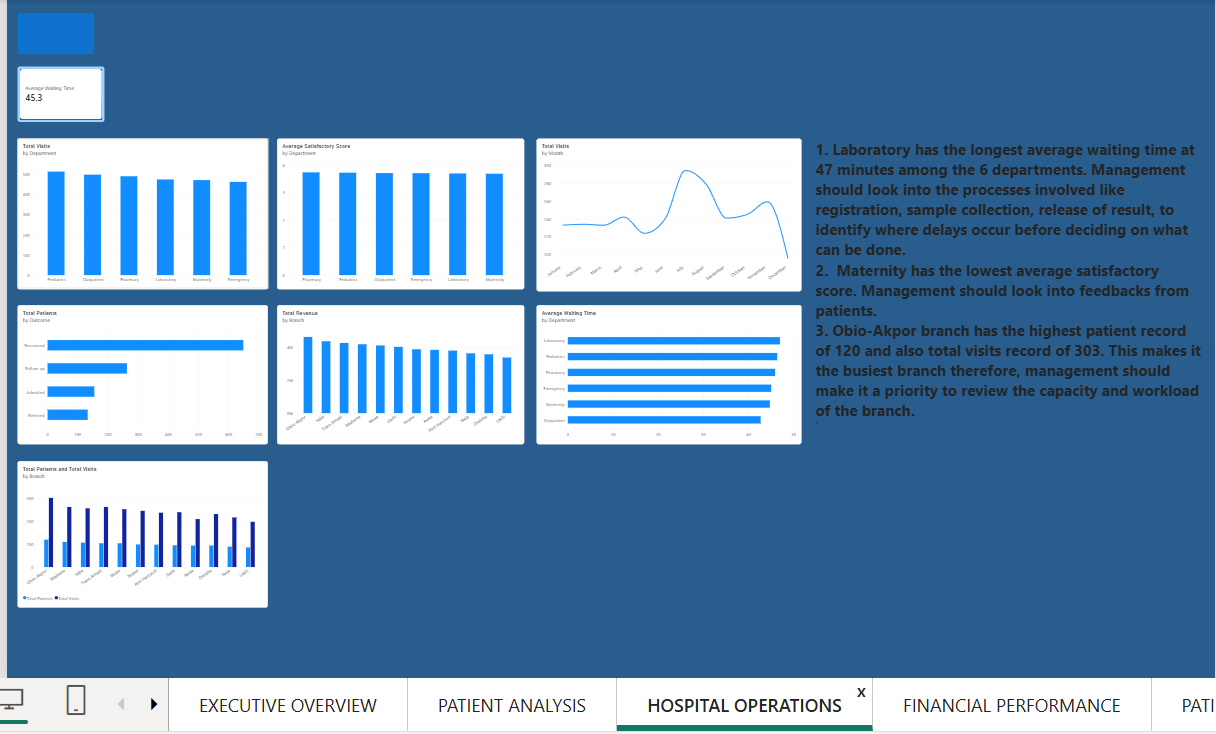

This screenshot's page, from the dashboard's own definition file:
{"tool":"powerbi","page":{"name":"HOSPITAL OPERATIONS","canvas":[3840,2160],"ordinal":2},"visuals":[{"type":"clusteredColumnChart","fields":{"Category":["Patient_Visits.Department"],"Y":["Patient_Visits.Total Visits"]},"box":[33.3,443.3,796.7,480],"z":0},{"type":"cardVisual","fields":{"Data":["Patient_Visits.Average Waiting Time"]},"box":[33.3,216.7,276.7,176.7],"z":1000},{"type":"clusteredBarChart","fields":{"Category":["Patient_Visits.Department"],"Y":["Patient_Visits.Average Waiting Time"]},"box":[1686.7,973.3,843.3,443.3],"z":2000},{"type":"clusteredColumnChart","fields":{"Category":["Patient_Visits.Department"],"Y":["Patient_Visits.Average Satisfactory Score"]},"box":[860,443.3,786.7,480],"z":3000},{"type":"clusteredBarChart","fields":{"Category":["Patient_Visits.Outcome"],"Y":["Patient_Visits.Total Patients"]},"box":[33.3,973.3,796.7,443.3],"z":4000},{"type":"clusteredColumnChart","fields":{"Category":["Patient_Visits.Branch"],"Y":["Patient_Visits.Total Patients","Patient_Visits.Total Visits"]},"box":[33.3,1470,796.7,466.7],"z":5000},{"type":"clusteredColumnChart","fields":{"Category":["Patient_Visits.Branch"],"Y":["Patient_Visits.Total Revenue"]},"box":[860,973.3,786.7,443.3],"z":6000},{"type":"lineChart","fields":{"Category":["Date_Table.Month"],"Y":["Patient_Visits.Total Visits"]},"box":[1686.7,443.3,843.3,486.7],"z":7000},{"type":"actionButton","box":[33.3,43.3,243.3,133.3],"z":7001},{"type":"textbox","box":[2573.3,443.3,1226.7,973.3],"z":7002}]}

Visuals, with their boxes on the page's 3840x2160 design canvas (x1, y1, x2, y2). These are canvas units, not pixel positions in the 1216x734 screenshot, which may show the page scaled, cropped or inside an application window:
clusteredColumnChart - Patient_Visits.Department x Patient_Visits.Total Visits: [33,443,830,923]
cardVisual - Patient_Visits.Average Waiting Time: [33,217,310,393]
clusteredBarChart - Patient_Visits.Department x Patient_Visits.Average Waiting Time: [1687,973,2530,1417]
clusteredColumnChart - Patient_Visits.Department x Patient_Visits.Average Satisfactory Score: [860,443,1647,923]
clusteredBarChart - Patient_Visits.Outcome x Patient_Visits.Total Patients: [33,973,830,1417]
clusteredColumnChart - Patient_Visits.Branch x Patient_Visits.Total Patients: [33,1470,830,1937]
clusteredColumnChart - Patient_Visits.Branch x Patient_Visits.Total Revenue: [860,973,1647,1417]
lineChart - Date_Table.Month x Patient_Visits.Total Visits: [1687,443,2530,930]
actionButton: [33,43,277,177]
textbox: [2573,443,3800,1417]
